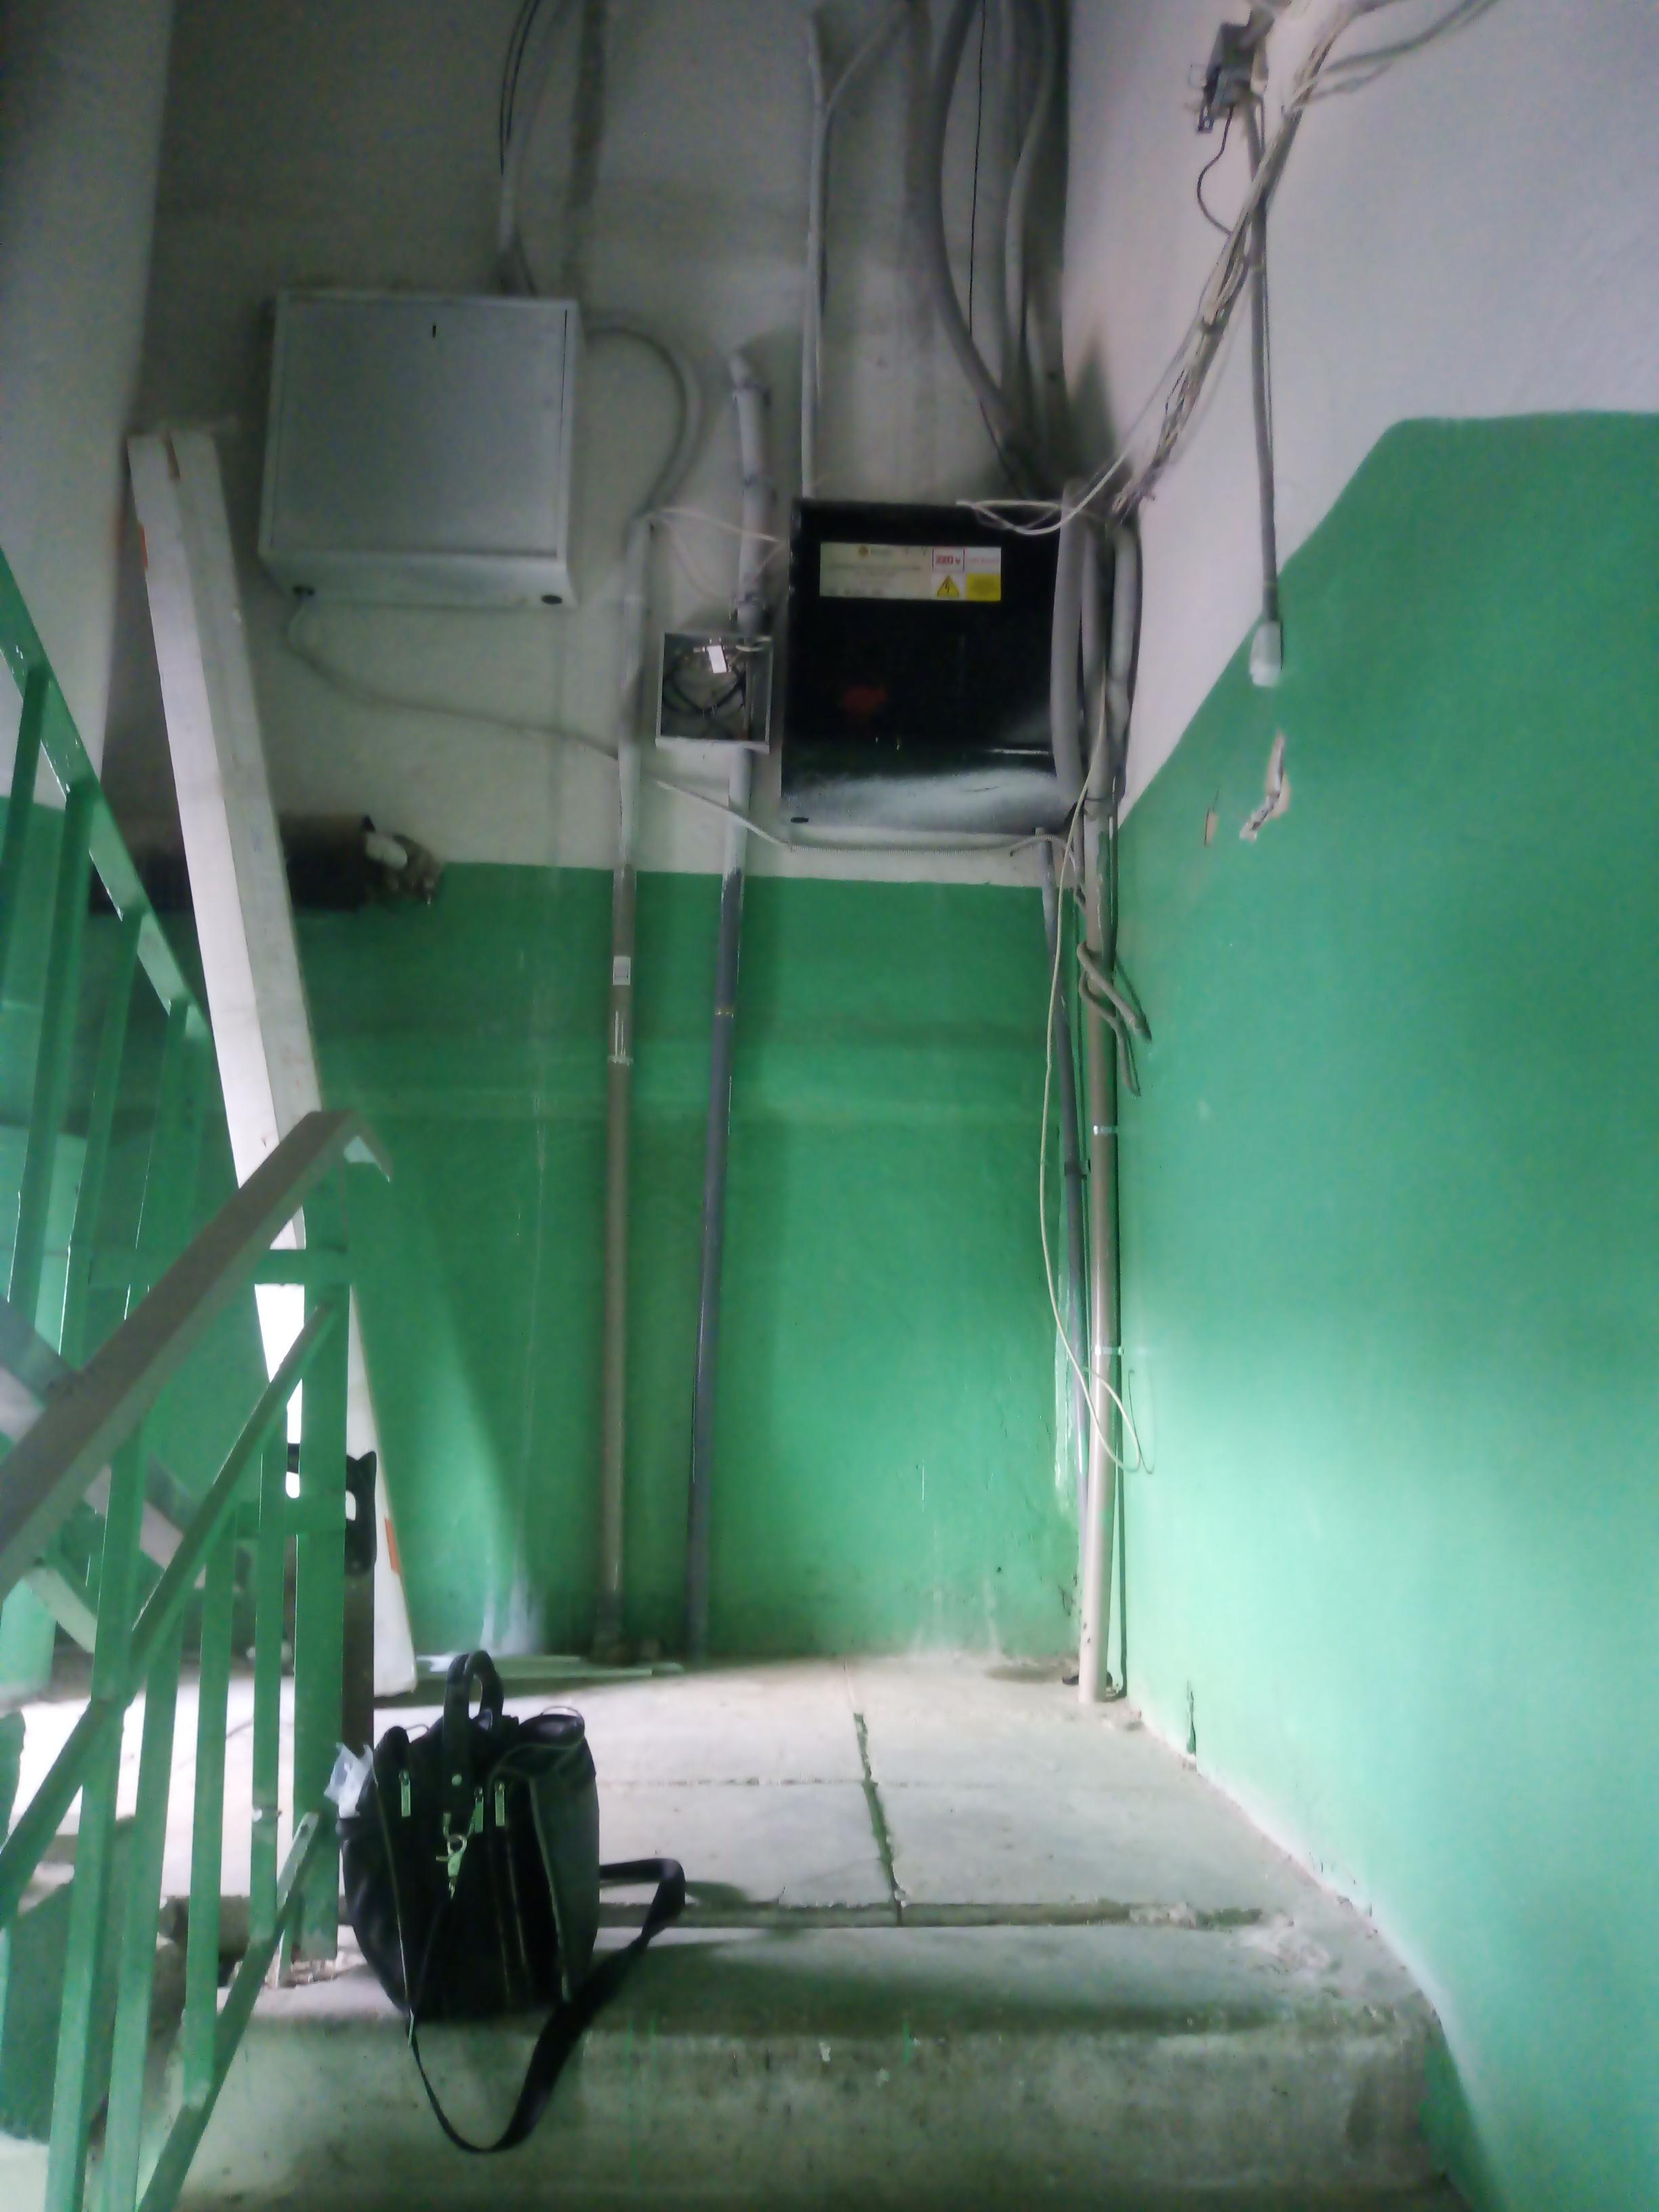shta-9m: (772, 491, 1107, 853)
